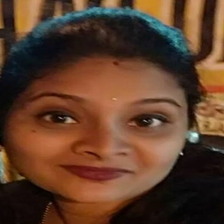no_mask: (17, 67, 182, 196)
